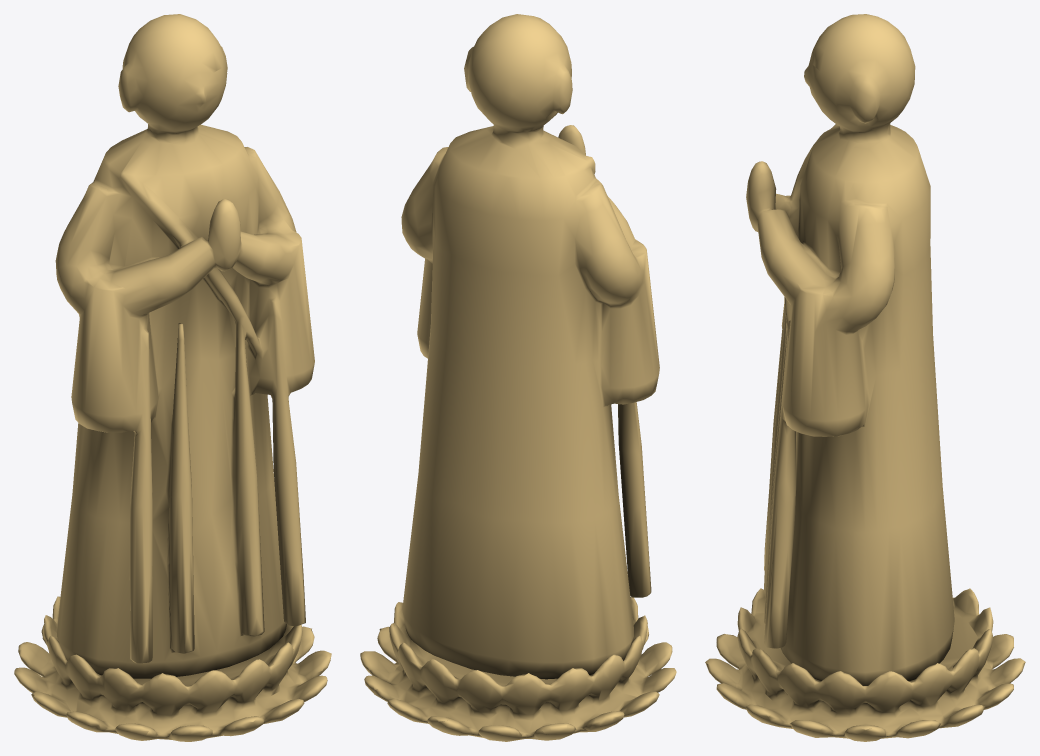
Rendered from disciple.glb.
3 views of the same model, side by side, from view 1: azimuth 30°, elevation 25°; view 2: azimuth 150°, elevation 25°; view 3: azimuth 270°, elevation 25° (orthographic).
Visible parts, largest first — view 1: disciple, throne; view 2: disciple, throne; view 3: disciple, throne.
Part boxes in pixels (x1,y1,x2,y2): disciple: [55, 14, 314, 678]; throne: [14, 596, 331, 741]; disciple: [401, 14, 659, 679]; throne: [360, 597, 676, 741]; disciple: [746, 14, 954, 685]; throne: [705, 588, 1025, 741].
Bounding box in the file's own units: 0.9563 × 2.2 × 0.9556.
